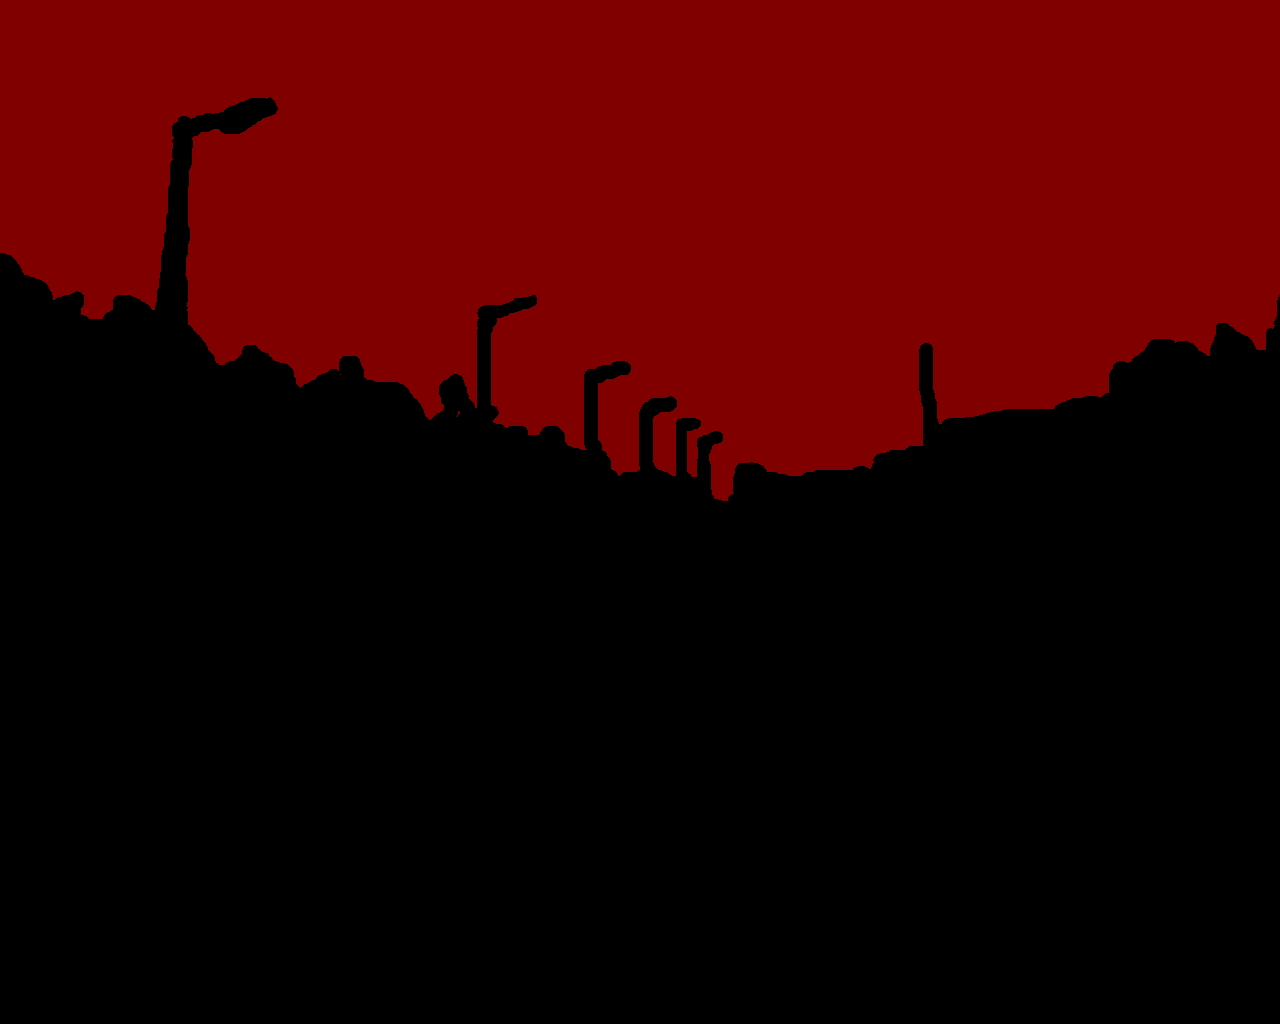Sky: (1, 1, 1279, 501)
